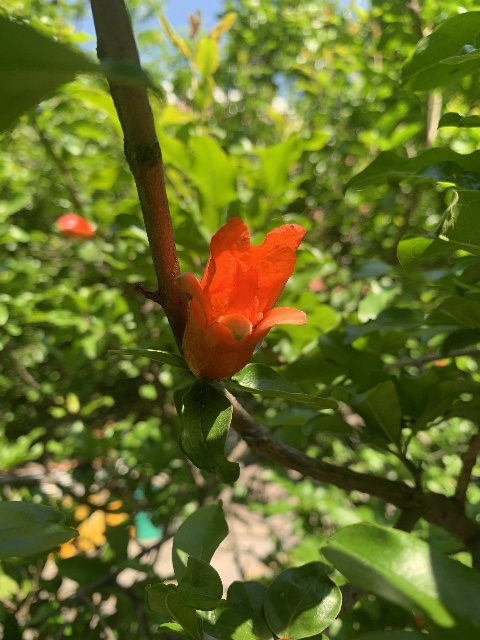bud: (55, 213, 94, 240)
flower: (178, 216, 307, 381)
